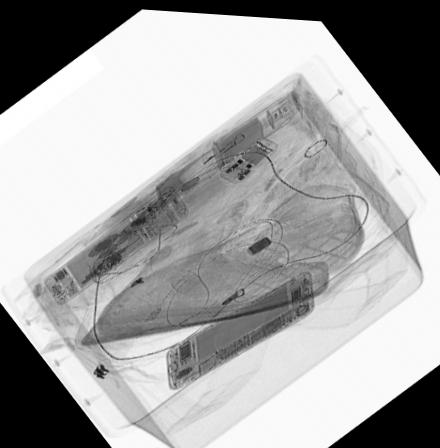Lighter: (179, 125, 250, 182)
